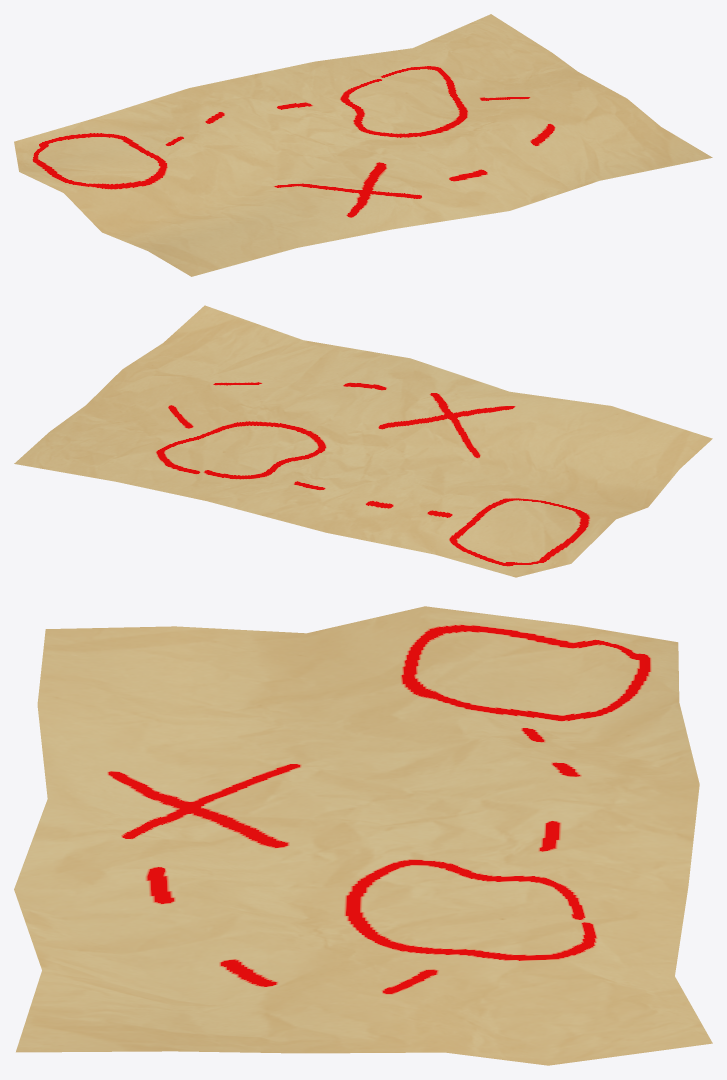
Rendered from map.fbx.
3 views of the same model, one above another, from view 1: azimuth 30°, elevation 25°; view 2: azimuth 150°, elevation 25°; view 3: azimuth 270°, elevation 25° (orthographic). The views are drawn at different scales.
Visible parts, largest first — view 1: Plane; view 2: Plane; view 3: Plane.
Boxes of the visible parts, x1,y1,x2,y2 form: Plane: (14,14,712,276); Plane: (14,305,712,577); Plane: (14,606,712,1065).
Size of the model in its own units: 1419 by 39.82 by 958.
Materials: 1 (1 with a texture image).
